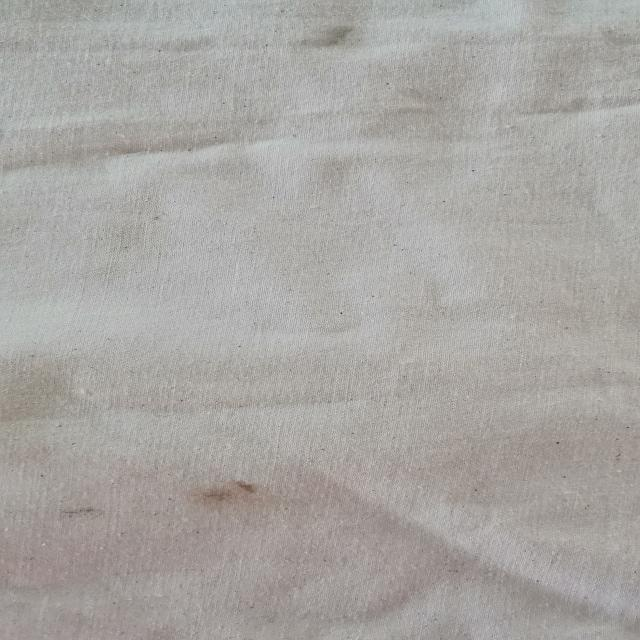taaaches: (267, 13, 386, 64), (181, 470, 287, 516), (28, 490, 110, 530)
